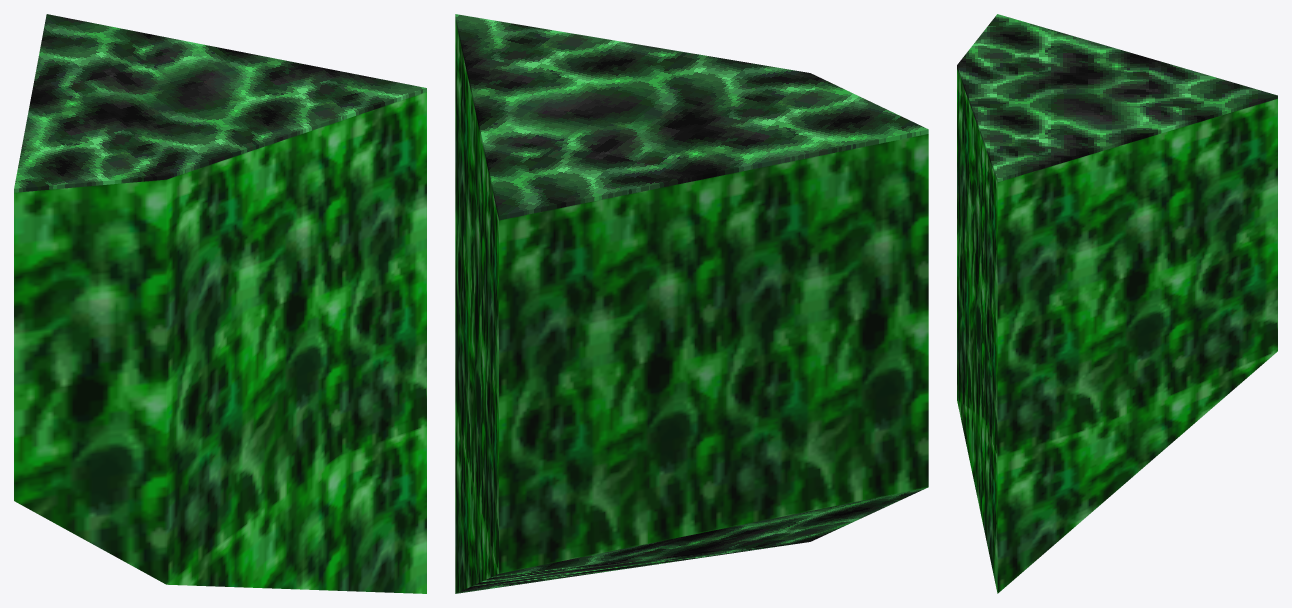
The picture shows the model from 3 angles, left to right: view 1: azimuth 30°, elevation 25°; view 2: azimuth 150°, elevation 25°; view 3: azimuth 270°, elevation 25°; orthographic projection. The views are drawn at different scales.
Parts seen in each view (by area): view 1: kb3_a; view 2: kb3_a; view 3: kb3_a.
Boxes of the visible parts, box(x1,y1,x2,y2) form: kb3_a: box(14, 14, 426, 593); kb3_a: box(455, 14, 928, 593); kb3_a: box(957, 14, 1277, 593).
Bounding box in the file's own units: 279 × 326 × 229.
2 materials, 2 textured.
